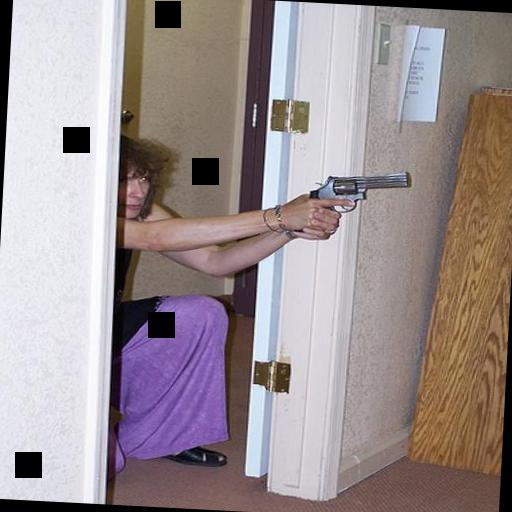Handgun: (288, 158, 408, 236)
